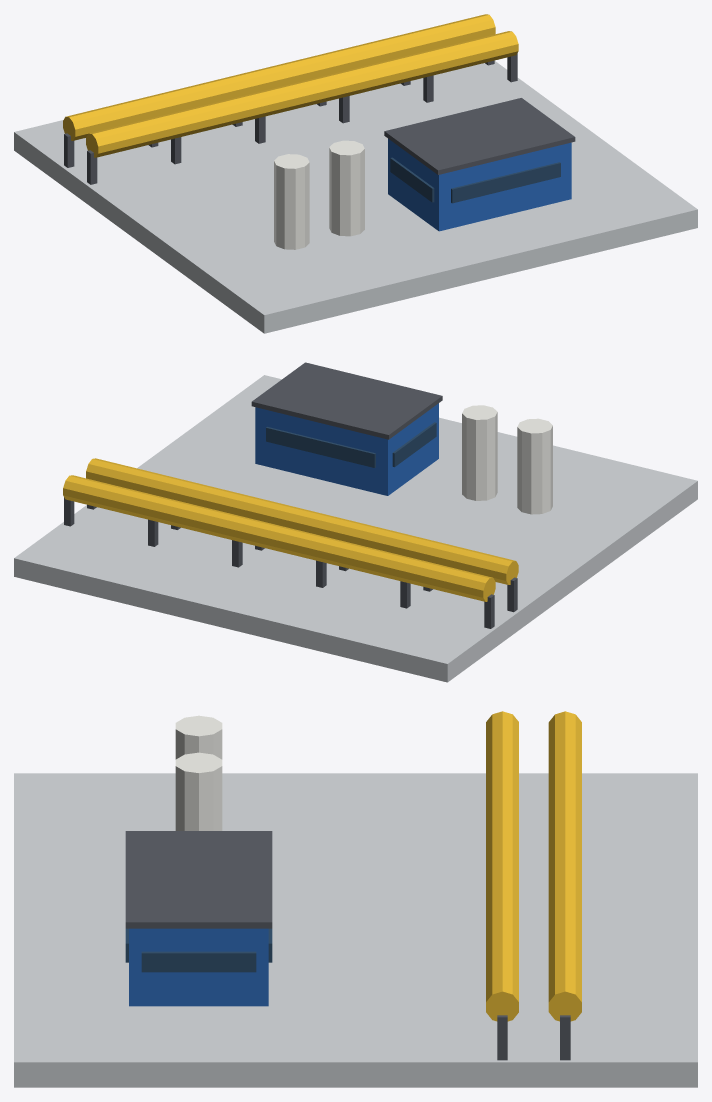
The model's file is gas_income_2.glb.
3 renders of one model, top to bottom at view 1: azimuth 30°, elevation 25°; view 2: azimuth 150°, elevation 25°; view 3: azimuth 270°, elevation 25°, orthographic. The views are drawn at different scales.
Parts seen in each view (by area): view 1: gas_income_2; view 2: gas_income_2; view 3: gas_income_2.
Boxes of the visible parts, x1=… form: gas_income_2: x1=14, y1=14, x2=697, y2=333; gas_income_2: x1=14, y1=362, x2=697, y2=682; gas_income_2: x1=14, y1=711, x2=697, y2=1087.
Size of the model in its own units: 1.96 by 0.43 by 1.96.
